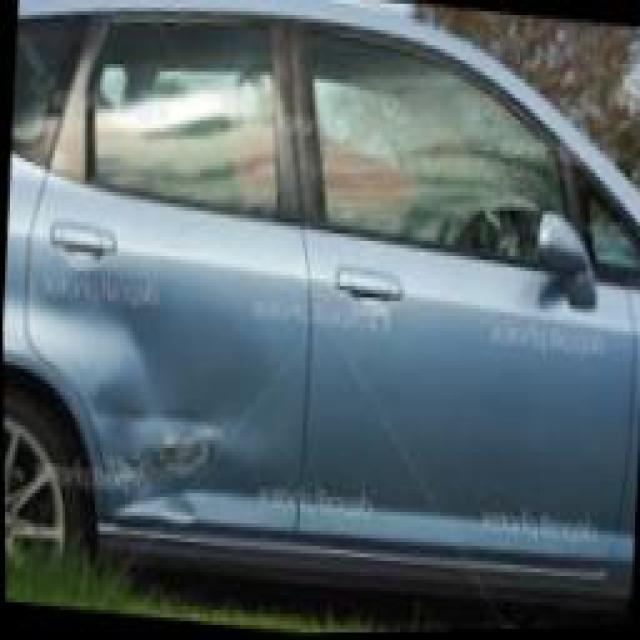Door: (26, 302, 225, 554)
